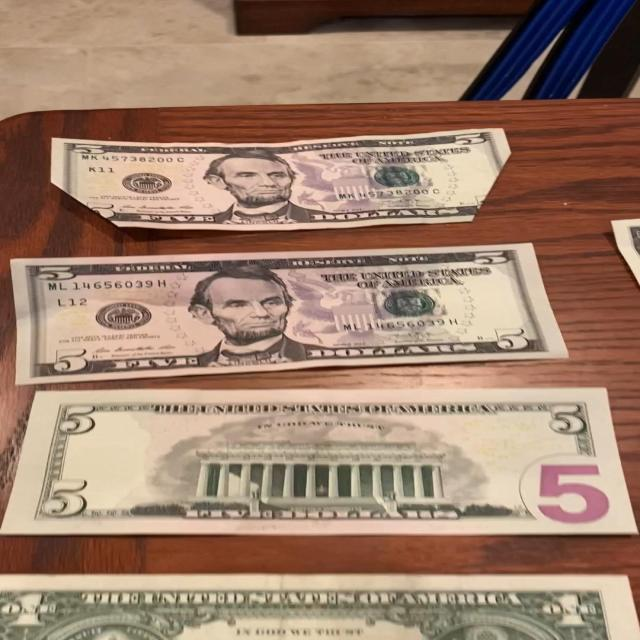1-Back: (0, 564, 640, 640)
5-Back: (0, 384, 640, 544)
5-Front: (0, 241, 574, 381), (45, 123, 522, 233)
